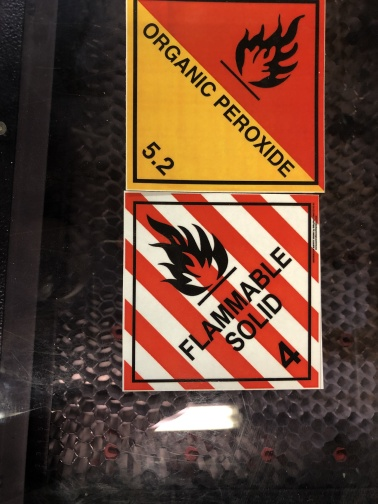FlammableSolid: (120, 192, 324, 390)
OrganicPeroxide: (124, 1, 325, 191)
